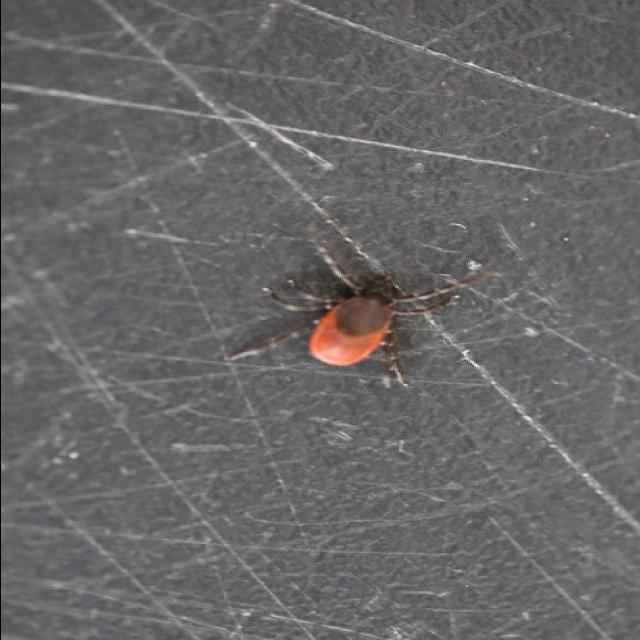Ixodes Ricinus-F: (225, 201, 500, 387)
